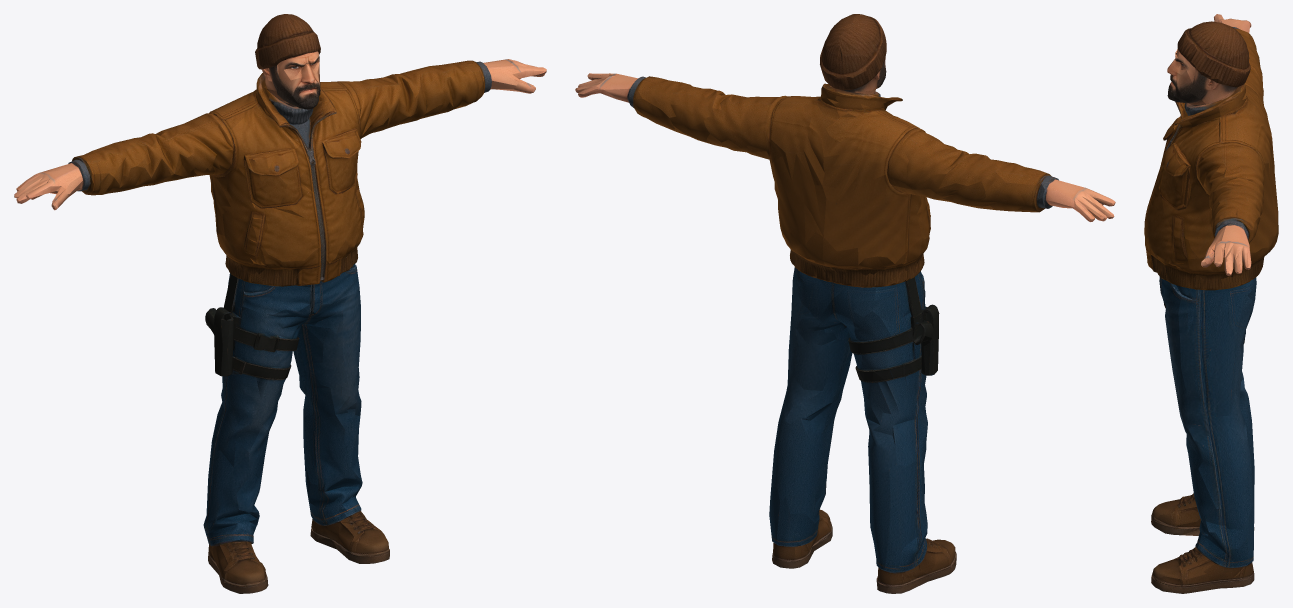
The model's file is robber.fbx.
3 views of the same model, side by side, from view 1: azimuth 30°, elevation 25°; view 2: azimuth 150°, elevation 25°; view 3: azimuth 270°, elevation 25° (orthographic). The views are drawn at different scales.
Parts seen in each view (by area): view 1: char1; view 2: char1; view 3: char1.
Part boxes in pixels (x1,y1,x2,y2): char1: (14,14,546,593); char1: (575,14,1115,593); char1: (1144,14,1278,593).
Size of the model in its own units: 184 by 180 by 41.17.
1 material, 1 textured.
